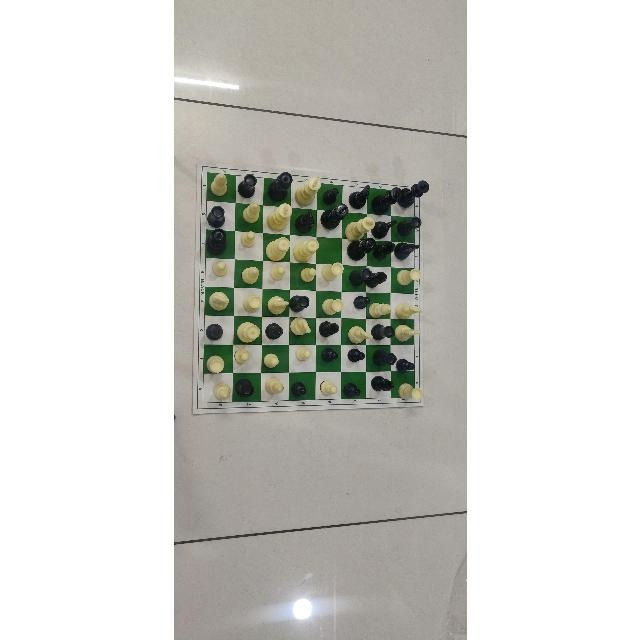black-bishop: (371, 242, 394, 259), (370, 376, 394, 392), (363, 272, 387, 288), (317, 320, 338, 337), (264, 323, 283, 339), (205, 324, 223, 340)
black-king: (395, 179, 428, 208), (370, 187, 402, 214), (320, 202, 348, 229)
black-knight: (348, 184, 370, 209), (370, 219, 396, 238), (294, 210, 314, 233), (394, 242, 418, 260)
black-pawn: (342, 382, 360, 397), (395, 359, 414, 373), (322, 188, 338, 204), (346, 347, 363, 362), (352, 295, 369, 309), (290, 382, 306, 396), (320, 349, 337, 361)
black-queen: (266, 171, 292, 201), (346, 238, 375, 260), (204, 228, 226, 254)
black-rook: (396, 216, 421, 236), (236, 174, 255, 198), (348, 267, 371, 286), (372, 349, 396, 367), (206, 205, 224, 227), (370, 324, 393, 340), (233, 378, 252, 397), (287, 295, 308, 312)
white-bishop: (209, 173, 227, 196), (367, 302, 390, 318), (241, 203, 259, 223), (240, 266, 258, 284), (264, 377, 282, 394), (212, 382, 229, 399)
white-king: (294, 176, 321, 206), (344, 215, 374, 240), (266, 203, 291, 231)
white-knight: (394, 302, 422, 320), (347, 325, 373, 344), (394, 324, 420, 341), (266, 295, 288, 314), (289, 317, 311, 336), (208, 291, 228, 311)
white-pawn: (319, 380, 337, 396), (294, 346, 311, 361), (239, 231, 254, 247), (268, 265, 284, 280), (262, 353, 278, 368), (299, 267, 315, 282), (211, 261, 226, 276), (233, 348, 248, 363)
white-queen: (291, 238, 318, 262), (264, 237, 289, 261), (236, 322, 260, 344)
white-rook: (398, 382, 422, 400), (395, 268, 420, 285), (321, 263, 343, 281), (321, 298, 343, 315), (242, 294, 261, 313), (204, 355, 223, 374)
